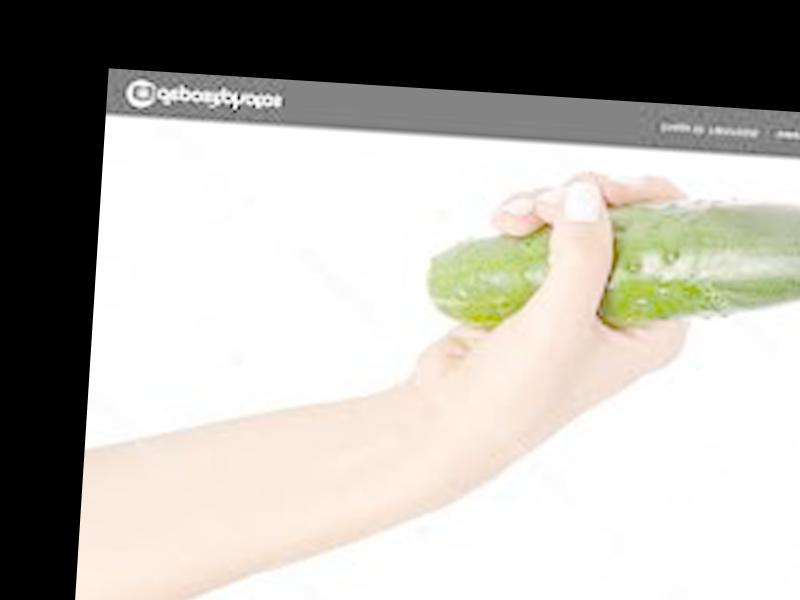Cucumber: (427, 181, 800, 349)
